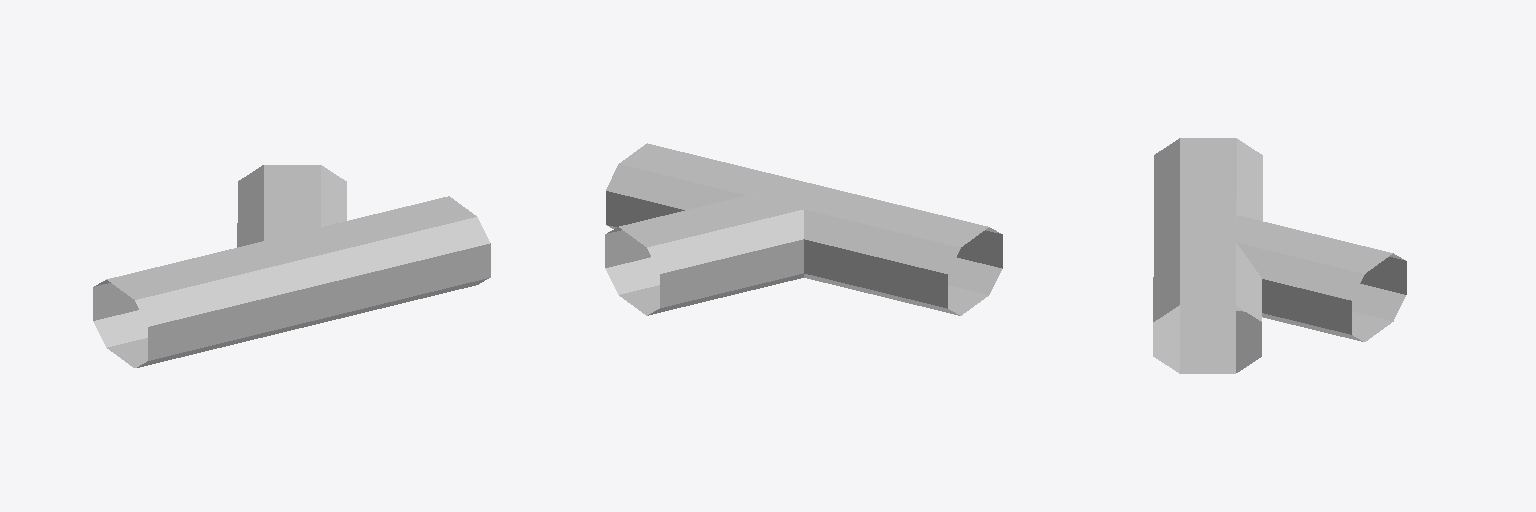
The model's file is Block31.obj.
3 views of the same model, side by side, from view 1: azimuth 30°, elevation 25°; view 2: azimuth 150°, elevation 25°; view 3: azimuth 270°, elevation 25° (orthographic).
Visible parts, largest first — view 1: Block31.001_Cylinder.029; view 2: Block31.001_Cylinder.029; view 3: Block31.001_Cylinder.029.
Boxes of the visible parts, <box> form: Block31.001_Cylinder.029: <box>93,165,490,367</box>; Block31.001_Cylinder.029: <box>605,143,1002,315</box>; Block31.001_Cylinder.029: <box>1153,138,1406,373</box>.
Size of the model in its own units: 1.73 by 0.3302 by 1.11.